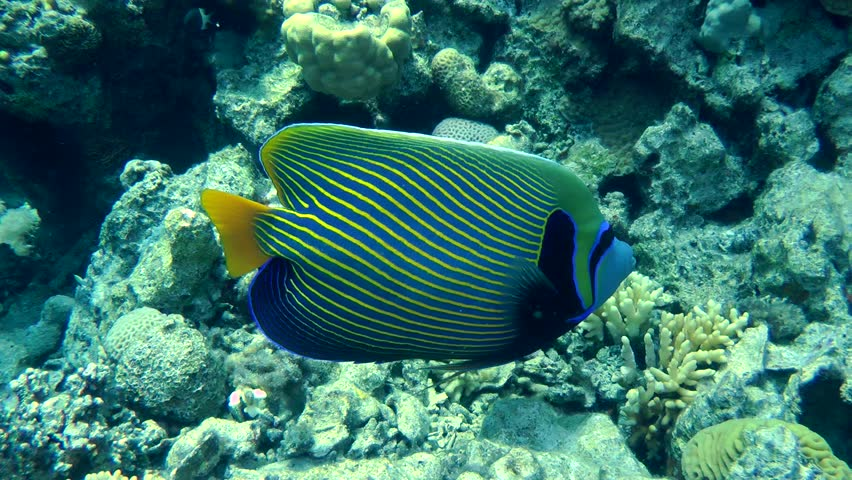Pomacanthus_imperator: (191, 124, 652, 373)
